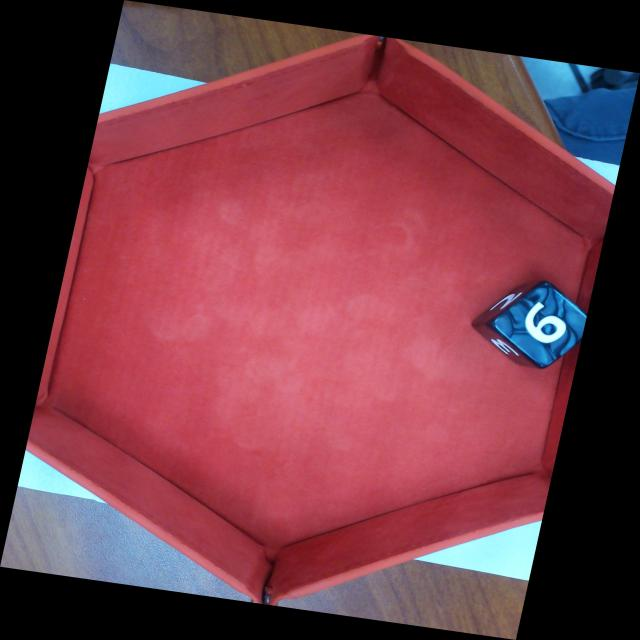dice: (491, 281, 589, 367)
